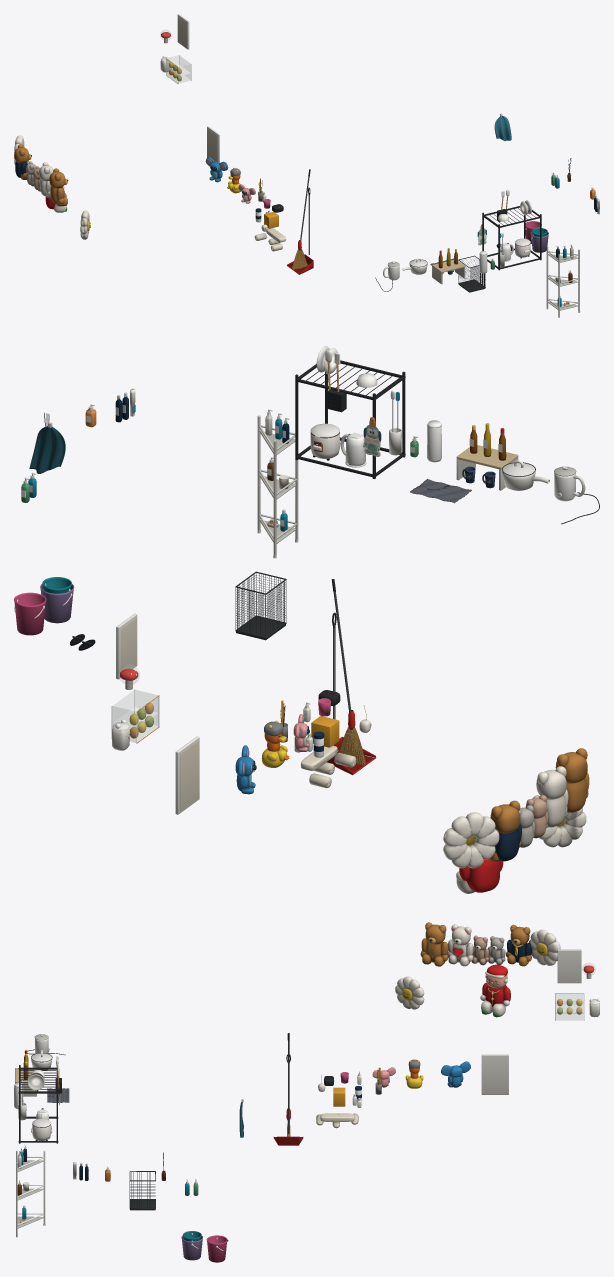
Rendered from final-room-props.glb.
The picture shows the model from 3 angles, top to bottom: view 1: azimuth 30°, elevation 25°; view 2: azimuth 150°, elevation 25°; view 3: azimuth 270°, elevation 25°; orthographic projection. The views are drawn at different scales.
Visible parts, largest first — view 1: Bathroom approved accessories / Refined warm white polymer, Kitchen simplified countertop / Refined satin black enamel, Hallway visible console and trolley details / Refined cream , Hallway visible sofa plush / Refined ivory plush textile, Hallway visible sofa plush / Refined honey plush textile, Kitchen simplified countertop / Refined warm white polymer, Hallway visible console and trolley details / Refined clear , Kitchen separated mesh bin / Black rack enamel, Hallway visible console and trolley details / Refined warm w, Kitchen simplified countertop / Refined white enamel; view 2: Hallway visible sofa plush / Refined ivory plush textile, Bathroom approved accessories / Refined warm white polymer, Kitchen simplified countertop / Refined satin black enamel, Hallway visible console and trolley details / Refined cream , Kitchen separated mesh bin / Black rack enamel, Hallway visible sofa plush / Refined honey plush textile, Kitchen simplified countertop / Refined warm white polymer, Hallway visible console and trolley details / Refined clear , Hallway visible console and trolley details / Refined warm w, Kitchen simplified countertop / Refined white enamel, Bathroom approved accessories / Refined blue towel textile, Bathroom approved accessories / Refined pink moulded plastic (+6 smaller); view 3: Hallway visible sofa plush / Refined ivory plush textile, Hallway visible console and trolley details / Refined warm w, Hallway visible sofa plush / Refined honey plush textile, Bathroom approved accessories / Refined warm white polymer, Kitchen simplified countertop / Refined satin black enamel, Hallway visible console and trolley details / Refined clear , Kitchen separated mesh bin / Black rack enamel, Hallway visible sofa plush / Refined red woven textile, Kitchen simplified countertop / Refined warm white polymer, Kitchen simplified countertop / Refined white enamel, Bathroom approved accessories / Refined pink moulded plastic, Hallway visible console and trolley details / Refined blue c (+1 smaller).
Boxes of the visible parts, x1=… form: Bathroom approved accessories / Refined warm white polymer: x1=525, y1=173, x2=599, y2=317; Kitchen simplified countertop / Refined satin black enamel: x1=375, y1=206, x2=541, y2=291; Hallway visible console and trolley details / Refined cream : x1=178, y1=16, x2=286, y2=251; Hallway visible sofa plush / Refined ivory plush textile: x1=14, y1=135, x2=89, y2=239; Hallway visible sofa plush / Refined honey plush textile: x1=14, y1=144, x2=67, y2=206; Kitchen simplified countertop / Refined warm white polymer: x1=383, y1=189, x2=509, y2=284; Hallway visible console and trolley details / Refined clear : x1=160, y1=29, x2=191, y2=83; Kitchen separated mesh bin / Black rack enamel: x1=458, y1=255, x2=485, y2=292; Hallway visible console and trolley details / Refined warm w: x1=160, y1=14, x2=269, y2=213; Kitchen simplified countertop / Refined white enamel: x1=388, y1=232, x2=503, y2=280; Hallway visible sofa plush / Refined ivory plush textile: x1=443, y1=766, x2=586, y2=893; Bathroom approved accessories / Refined warm white polymer: x1=14, y1=388, x2=298, y2=618; Kitchen simplified countertop / Refined satin black enamel: x1=295, y1=360, x2=599, y2=524; Hallway visible console and trolley details / Refined cream : x1=121, y1=617, x2=356, y2=810; Kitchen separated mesh bin / Black rack enamel: x1=235, y1=571, x2=286, y2=640; Hallway visible sofa plush / Refined honey plush textile: x1=488, y1=748, x2=589, y2=861; Kitchen simplified countertop / Refined warm white polymer: x1=325, y1=350, x2=585, y2=497; Hallway visible console and trolley details / Refined clear : x1=112, y1=664, x2=158, y2=742; Hallway visible console and trolley details / Refined warm w: x1=111, y1=613, x2=310, y2=814; Kitchen simplified countertop / Refined white enamel: x1=390, y1=390, x2=575, y2=501; Bathroom approved accessories / Refined blue towel textile: x1=29, y1=426, x2=65, y2=473; Bathroom approved accessories / Refined pink moulded plastic: x1=14, y1=592, x2=46, y2=635; Hallway visible sofa plush / Refined ivory plush textile: x1=395, y1=924, x2=560, y2=1016; Hallway visible console and trolley details / Refined warm w: x1=353, y1=949, x2=599, y2=1105; Hallway visible sofa plush / Refined honey plush textile: x1=420, y1=922, x2=531, y2=966; Bathroom approved accessories / Refined warm white polymer: x1=16, y1=1146, x2=223, y2=1250; Kitchen simplified countertop / Refined satin black enamel: x1=18, y1=1049, x2=65, y2=1143; Hallway visible console and trolley details / Refined clear : x1=555, y1=963, x2=595, y2=1020; Kitchen separated mesh bin / Black rack enamel: x1=129, y1=1171, x2=155, y2=1210; Hallway visible sofa plush / Refined red woven textile: x1=453, y1=948, x2=510, y2=1006; Kitchen simplified countertop / Refined warm white polymer: x1=18, y1=1034, x2=59, y2=1120; Kitchen simplified countertop / Refined white enamel: x1=14, y1=1038, x2=51, y2=1108; Bathroom approved accessories / Refined pink moulded plastic: x1=206, y1=1235, x2=227, y2=1262; Hallway visible console and trolley details / Refined blue c: x1=441, y1=1061, x2=470, y2=1087.
Bounding box in the file's own units: 6.05 × 2.33 × 6.38.
Materials: 60 (1 with a texture image).
